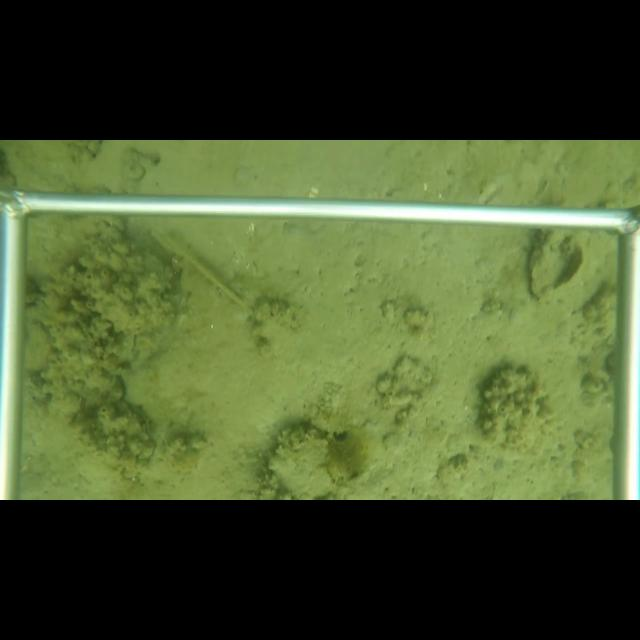Oyster-Closed: (265, 420, 335, 498)
